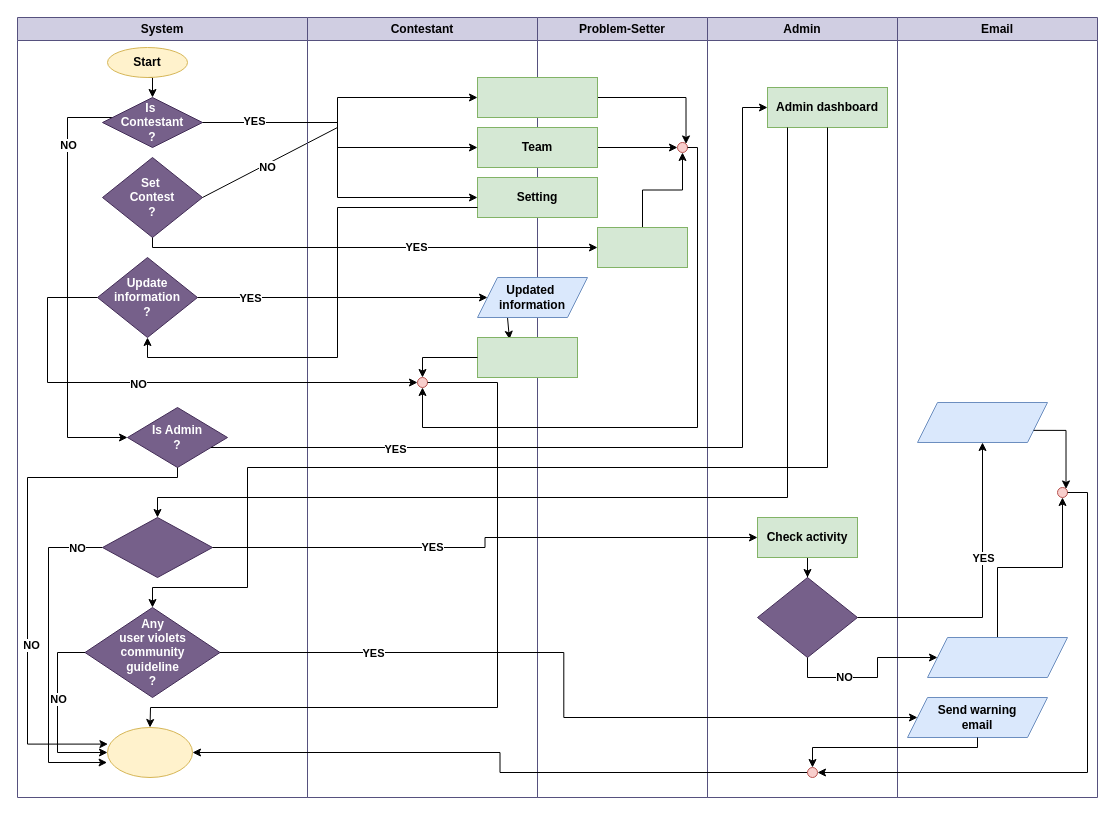
Image size: 1115x815. Some labels were removed from this diagram. Each missing label, with the centre of its shape:
All Okay?: point 807,617
End: point 149,752
Pending Approval?: point 157,547
Problem setting history: point 642,247
Profile overview: point 537,97
Send approval email: point 982,422
Send rejection email: point 997,657
Successfully updated: point 527,357
